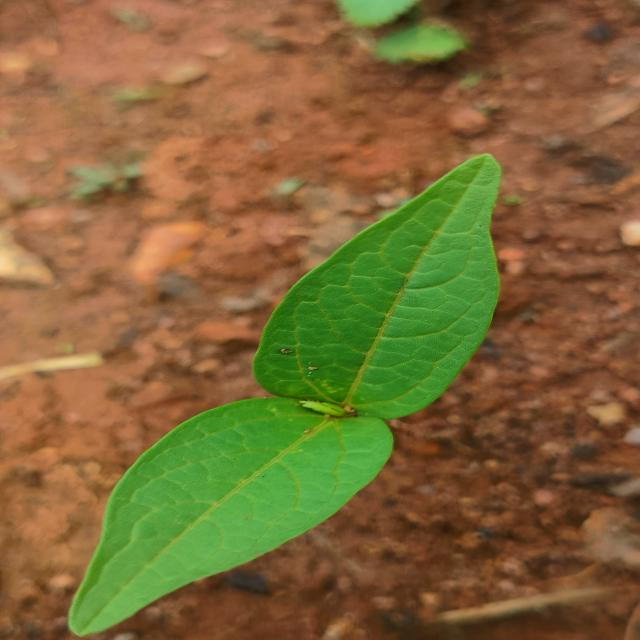Black gram_healthy: (62, 390, 392, 640), (247, 146, 506, 420)
